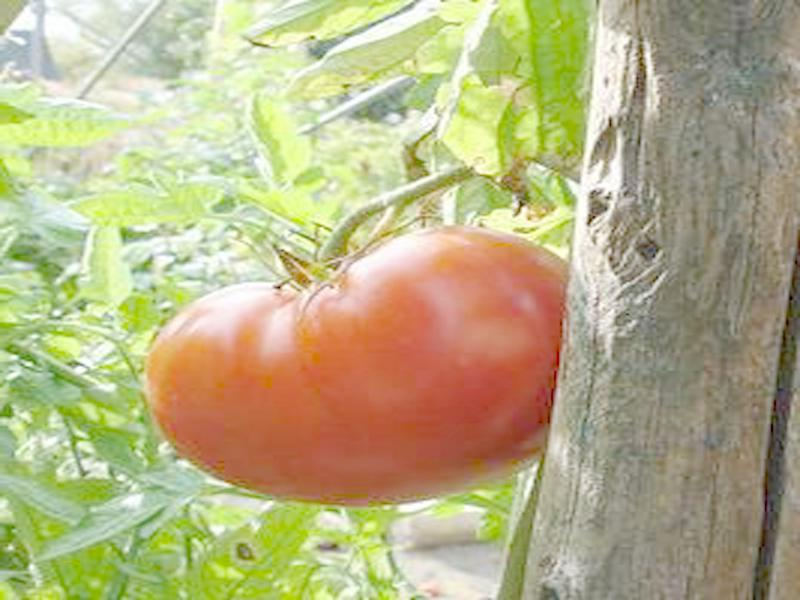Tomato: (143, 225, 574, 503)
